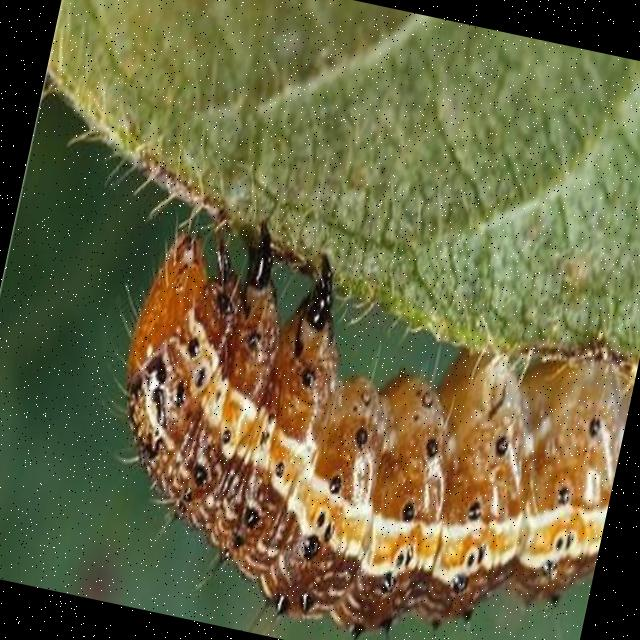worm: (59, 191, 640, 640)
